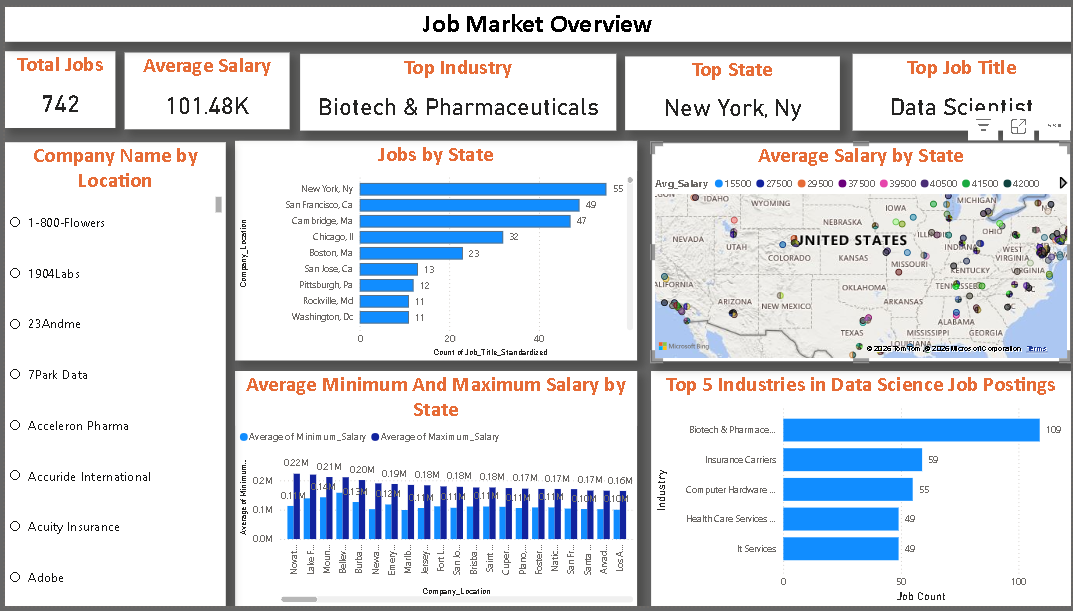

This screenshot's page, from the dashboard's own definition file:
{"tool":"powerbi","page":{"name":"Task 1","canvas":[1366,768],"ordinal":0},"visuals":[{"type":"clusteredBarChart","title":"Jobs by State","fields":{"Category":["Cleaned_Data.Company_Location"],"Y":["CountNonNull(Cleaned_Data.Job_Title_Standardized)"]},"box":[295,171.7,515,281.7],"z":0},{"type":"clusteredColumnChart","title":"Average Minimum And Maximum Salary by State","fields":{"Category":["Cleaned_Data.Company_Location"],"Y":["Avg(Cleaned_Data.Minimum_Salary)","Avg(Cleaned_Data.Maximum_Salary)"]},"box":[295,466.7,515,301.7],"z":1000},{"type":"map","title":"Average Salary by State","fields":{"Category":["Cleaned_Data.Company_Location"],"Series":["Cleaned_Data.Avg_Salary"]},"box":[828.3,173.3,538.3,281.7],"z":2000},{"type":"clusteredBarChart","title":"Top 5 Industries in Data Science Job Postings","fields":{"Category":["Cleaned_Data.Industry"],"Y":["Cleaned_Data.Job Count"]},"box":[828.3,466.7,538.3,301.7],"z":3000},{"type":"listSlicer","title":"Company Name by Location","fields":{"Values":["Cleaned_Data.Company_Name"]},"box":[0,173.3,283.3,595],"z":4000},{"type":"card","title":"Total Jobs","fields":{"Values":["CountNonNull(Cleaned_Data.ID)"]},"box":[0,56.7,141.7,98.3],"z":5000},{"type":"card","title":"Average Salary","fields":{"Values":["Avg(Cleaned_Data.Avg_Salary)"]},"box":[153.3,58.3,211.7,98.3],"z":6000},{"type":"card","title":"Top Industry","fields":{"Values":["Cleaned_Data.Top Industry"]},"box":[378.3,60,405,98.3],"z":7000},{"type":"card","title":"Top State","fields":{"Values":["Cleaned_Data.Top_City"]},"box":[795,63.3,275,95],"z":8000},{"type":"card","title":"Top Job Title","fields":{"Values":["Cleaned_Data.Top_Job_Title"]},"box":[1086.7,60,280,98.3],"z":9000},{"type":"textbox","title":"Job Market Overview","box":[0,0,1366.7,45],"z":10000}]}

Visuals, with their boxes in screenshot pixels (x1, y1, x2, y2), scaled from the page's 1366x768 canvas onto the 1073x611 screenshot:
"Jobs by State" clusteredBarChart: region(232, 137, 636, 361)
"Average Minimum And Maximum Salary by State" clusteredColumnChart: region(232, 371, 636, 610)
"Average Salary by State" map: region(651, 138, 1072, 362)
"Top 5 Industries in Data Science Job Postings" clusteredBarChart: region(651, 371, 1072, 610)
"Company Name by Location" listSlicer: region(0, 138, 223, 610)
"Total Jobs" card: region(0, 45, 111, 123)
"Average Salary" card: region(120, 46, 287, 125)
"Top Industry" card: region(297, 48, 615, 126)
"Top State" card: region(624, 50, 840, 126)
"Top Job Title" card: region(854, 48, 1072, 126)
"Job Market Overview" textbox: region(0, 0, 1072, 36)
